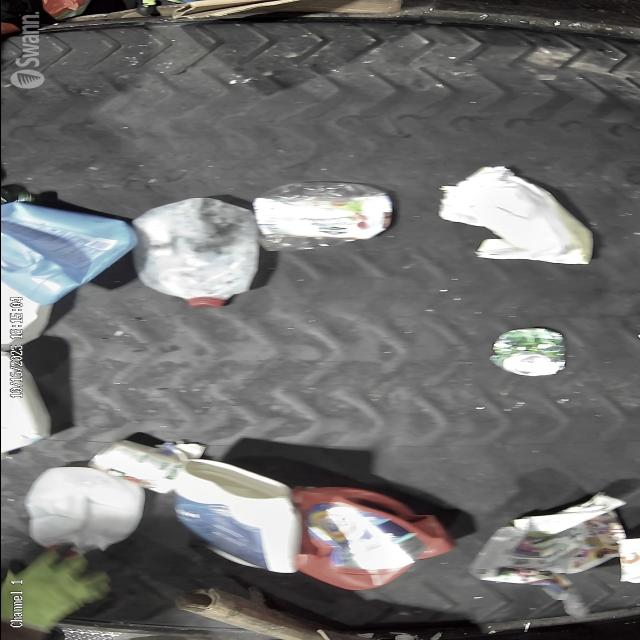can: (86, 438, 174, 494), (490, 327, 566, 377)
milk_jug: (133, 198, 260, 308), (26, 466, 144, 555), (0, 352, 51, 459)
non_white_jug: (296, 486, 454, 591), (0, 200, 137, 306), (176, 459, 296, 574)
